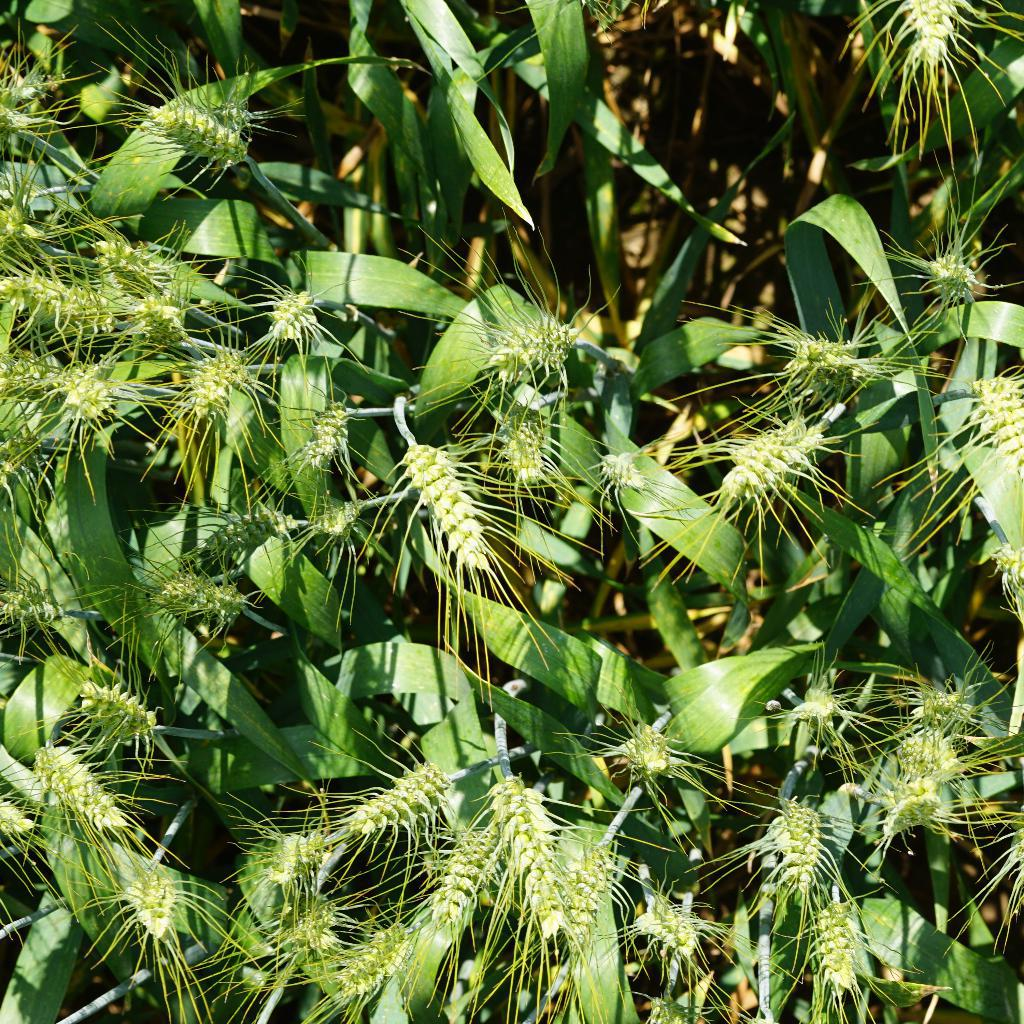0-0: (475, 761, 574, 933), (392, 430, 499, 578), (137, 85, 267, 182), (328, 757, 463, 848), (699, 410, 844, 494), (34, 733, 139, 848), (463, 299, 587, 384), (799, 890, 884, 1008), (884, 728, 968, 841), (333, 914, 425, 1015), (258, 894, 359, 976), (71, 669, 175, 746), (108, 854, 189, 948), (765, 318, 881, 382), (0, 353, 119, 414), (479, 403, 565, 485), (568, 833, 628, 948), (772, 787, 833, 897), (83, 225, 183, 292), (421, 832, 488, 930), (202, 497, 294, 568), (0, 272, 105, 332), (630, 885, 721, 953), (974, 369, 1024, 489), (284, 388, 350, 471), (253, 823, 339, 886), (186, 342, 257, 415), (152, 567, 246, 619), (264, 269, 326, 346), (903, 0, 972, 63), (787, 683, 866, 737), (616, 718, 681, 783), (922, 234, 987, 298), (0, 587, 88, 634), (124, 286, 195, 343), (586, 444, 650, 503), (908, 669, 970, 729), (0, 182, 47, 261), (305, 492, 366, 542), (0, 67, 71, 108), (0, 432, 40, 500)
